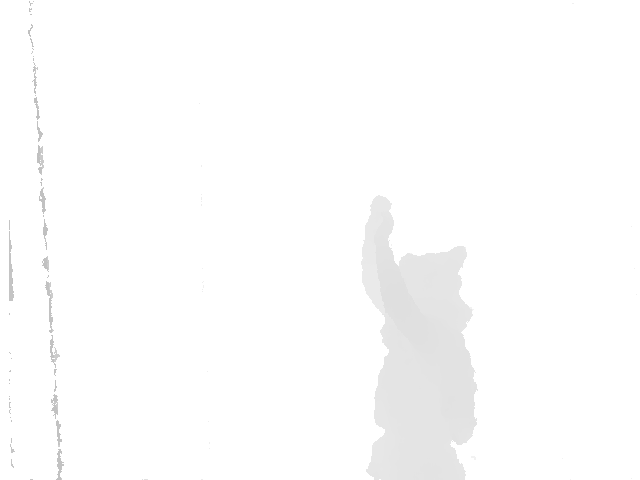hand: (366, 195, 390, 240), (377, 208, 395, 240)
head: (402, 246, 469, 307)
person: (360, 194, 480, 480)
